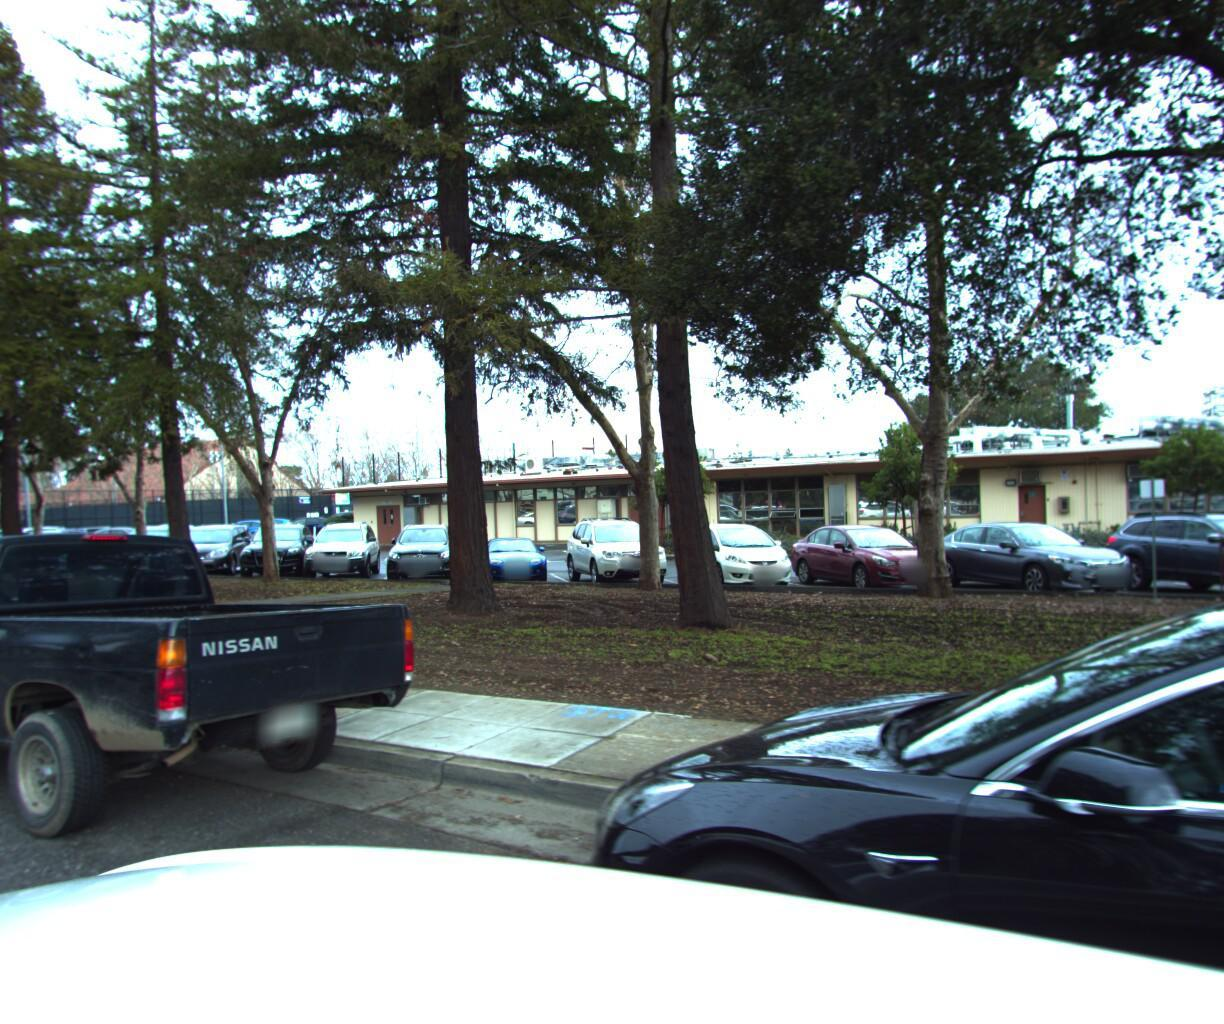car: (460, 536, 1224, 1024), (0, 515, 445, 909)
